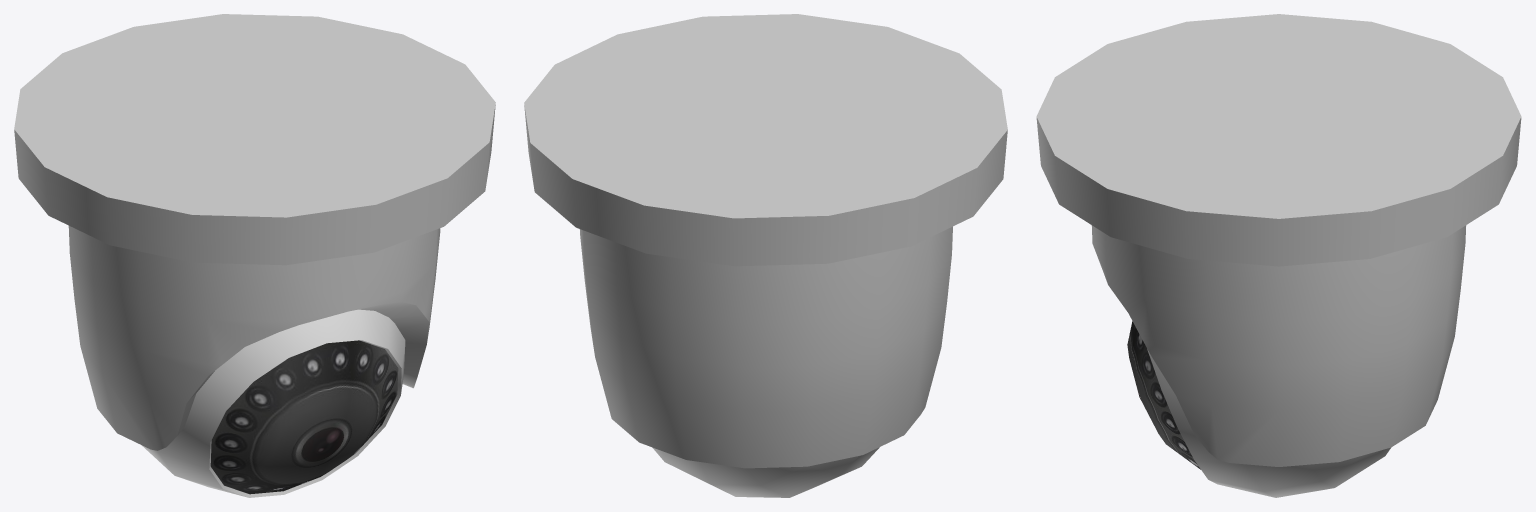
The model's file is sc_cctv.glb.
3 renders of one model, left to right at view 1: azimuth 30°, elevation 25°; view 2: azimuth 150°, elevation 25°; view 3: azimuth 270°, elevation 25°, orthographic.
Parts seen in each view (by area): view 1: whiteplastic, eyetexture; view 2: whiteplastic; view 3: whiteplastic, eyetexture.
Part boxes in pixels (bbox=[...]): whiteplastic: bbox=[14, 14, 495, 497]; eyetexture: bbox=[210, 340, 398, 494]; whiteplastic: bbox=[524, 14, 1007, 497]; whiteplastic: bbox=[1036, 14, 1521, 497]; eyetexture: bbox=[1127, 321, 1200, 469].
Bounding box in the file's own units: 0.14 × 0.117 × 0.14.
Materials: 2 (1 with a texture image).
